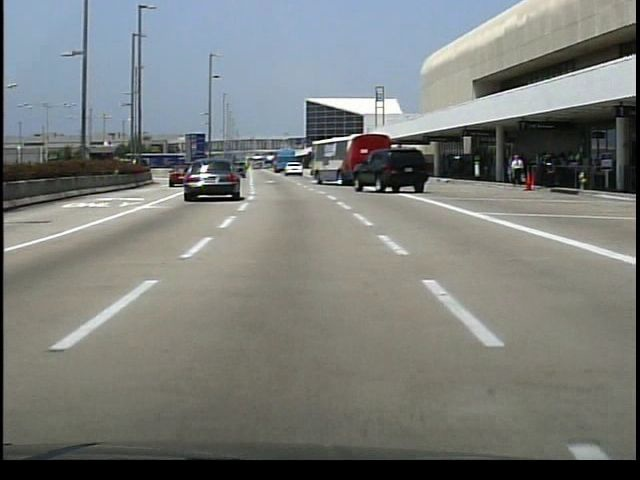person: (508, 154, 524, 189)
